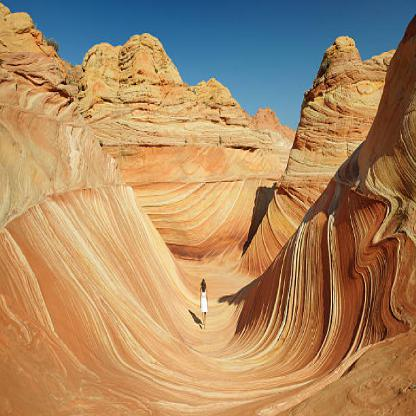Sedimentary_Sandstone: (80, 26, 182, 116), (0, 9, 76, 103), (313, 37, 373, 118)
